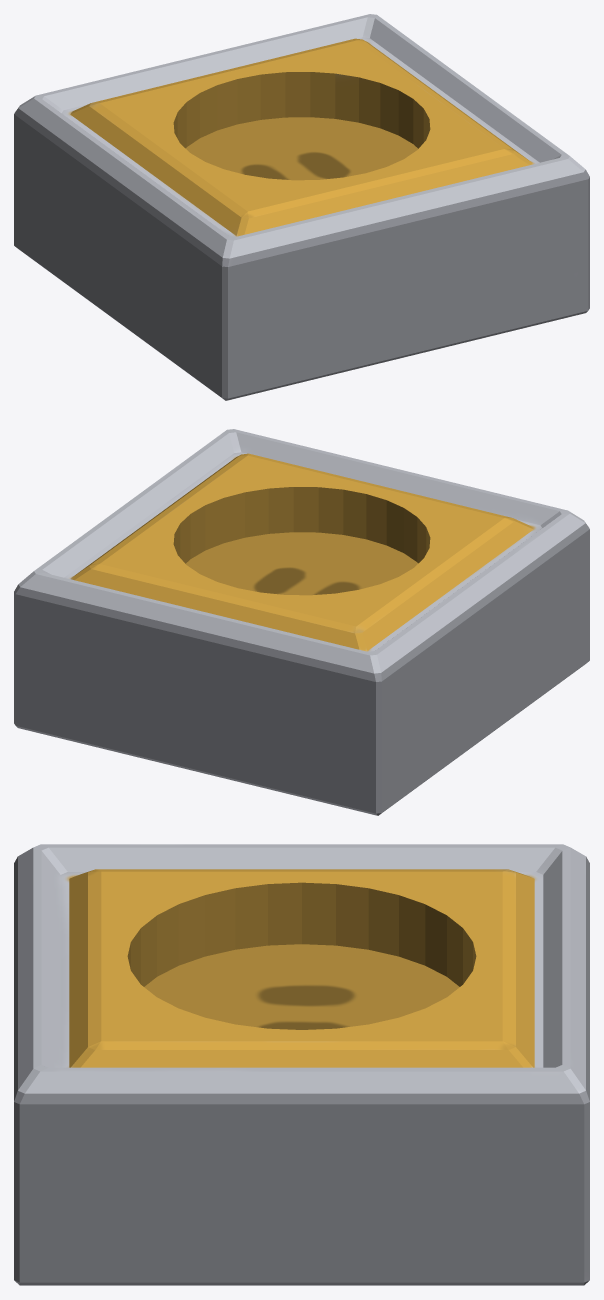
File: Mesh_SocketTile_01.obj
3 renders of one model, top to bottom at view 1: azimuth 30°, elevation 25°; view 2: azimuth 150°, elevation 25°; view 3: azimuth 270°, elevation 25°, orthographic. The views are drawn at different scales.
Parts seen in each view (by area): view 1: Cube; view 2: Cube; view 3: Cube.
Boxes of the visible parts, x1=… form: Cube: x1=14, y1=14, x2=589, y2=400; Cube: x1=14, y1=429, x2=589, y2=815; Cube: x1=14, y1=844, x2=589, y2=1285.
Size of the model in its own units: 2 by 0.8039 by 2.
